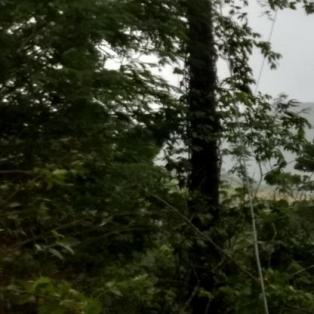Poste: (167, 0, 231, 205)
